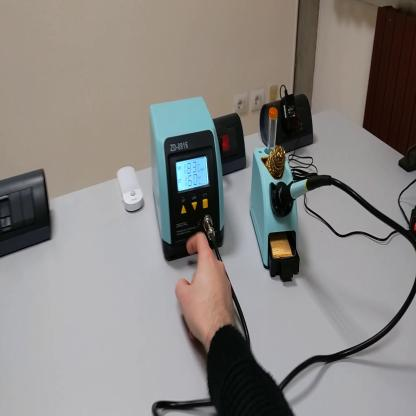electric screwdriver battery: (409, 203, 416, 242)
hand: (175, 231, 237, 348)
socket: (260, 90, 315, 152), (215, 112, 246, 176)
welder base: (251, 107, 301, 284)
welder probe tip: (280, 174, 332, 206)
welder station: (149, 95, 225, 264)
